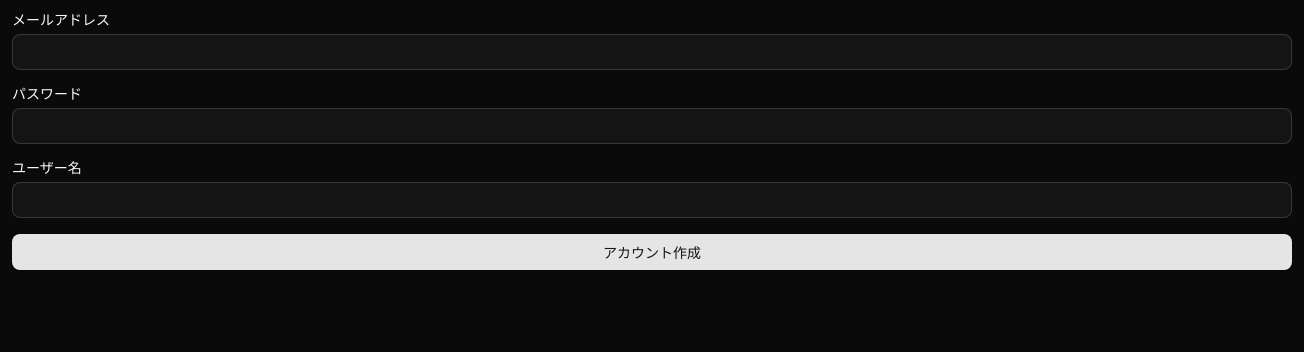
it: SignupForm › shows validation error when password lacks number
In the field labelled "メールアドレス": point(652, 52) x1=12 y1=34 x2=1292 y2=70, type "dj@example.com"
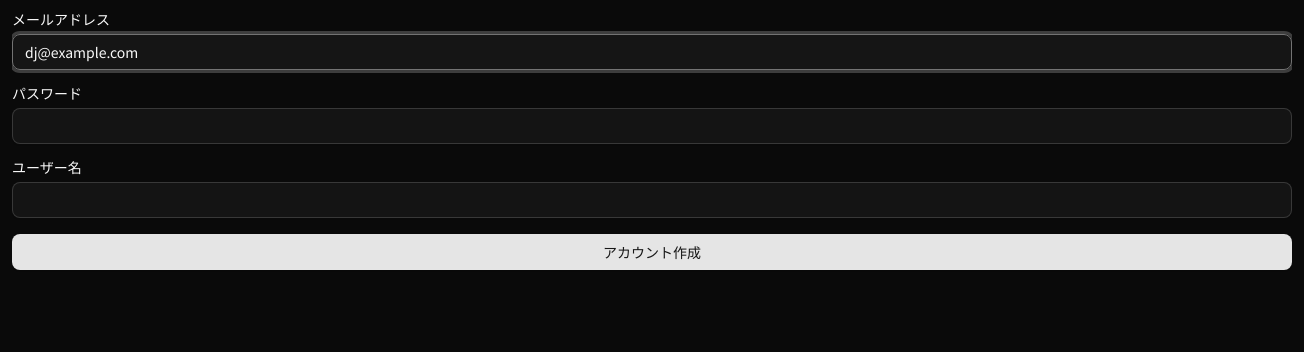
In the password field labelled "パスワード": point(652, 126) x1=12 y1=108 x2=1292 y2=144, type "Password"
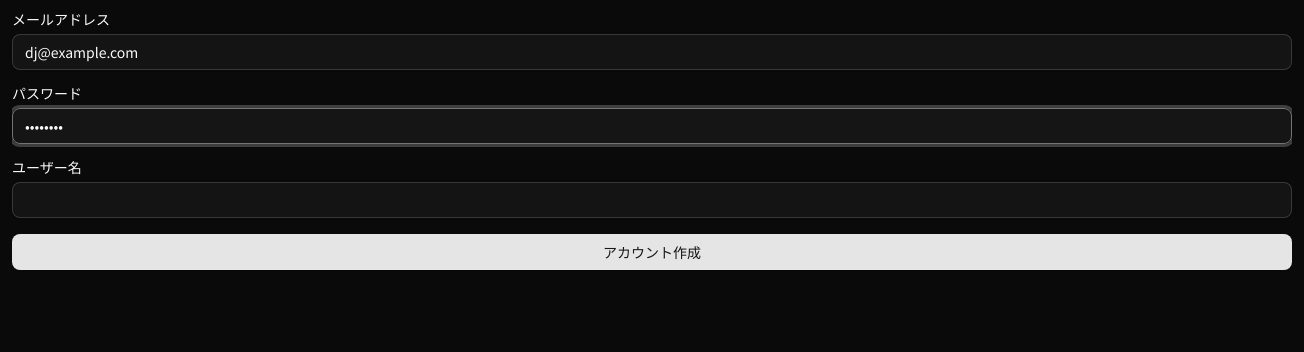
In the field labelled "ユーザー名": point(652, 200) x1=12 y1=182 x2=1292 y2=218, type "DJName"
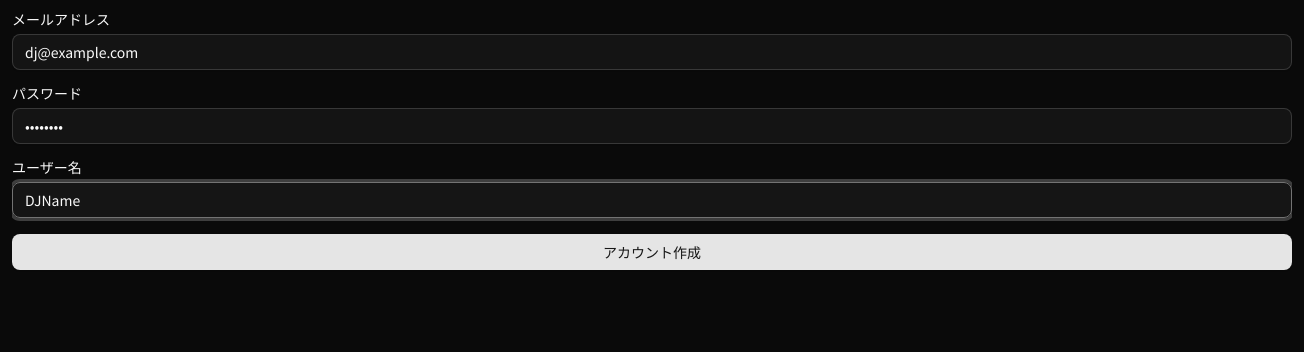
Click the button "アカウント作成": point(652, 252) x1=12 y1=234 x2=1292 y2=270
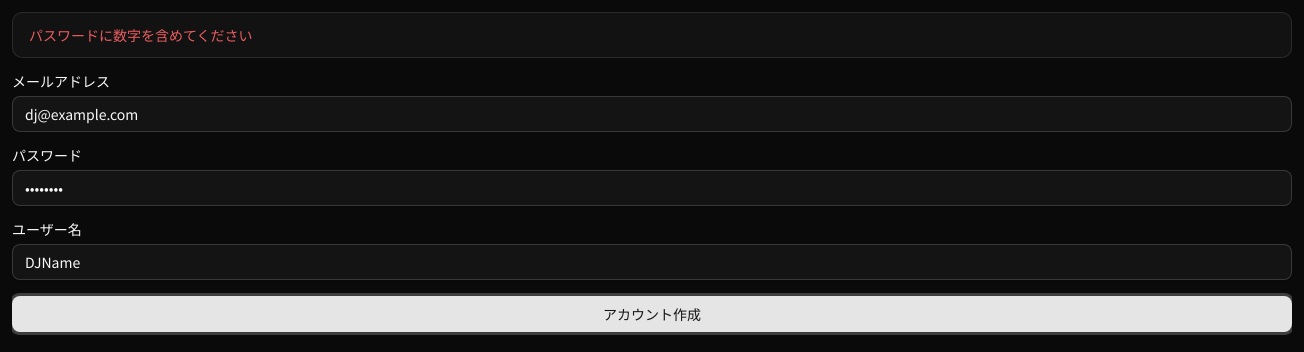
Check: the message "パスワードに数字を含めてください" is shown, box x1=12 y1=12 x2=1292 y2=58
